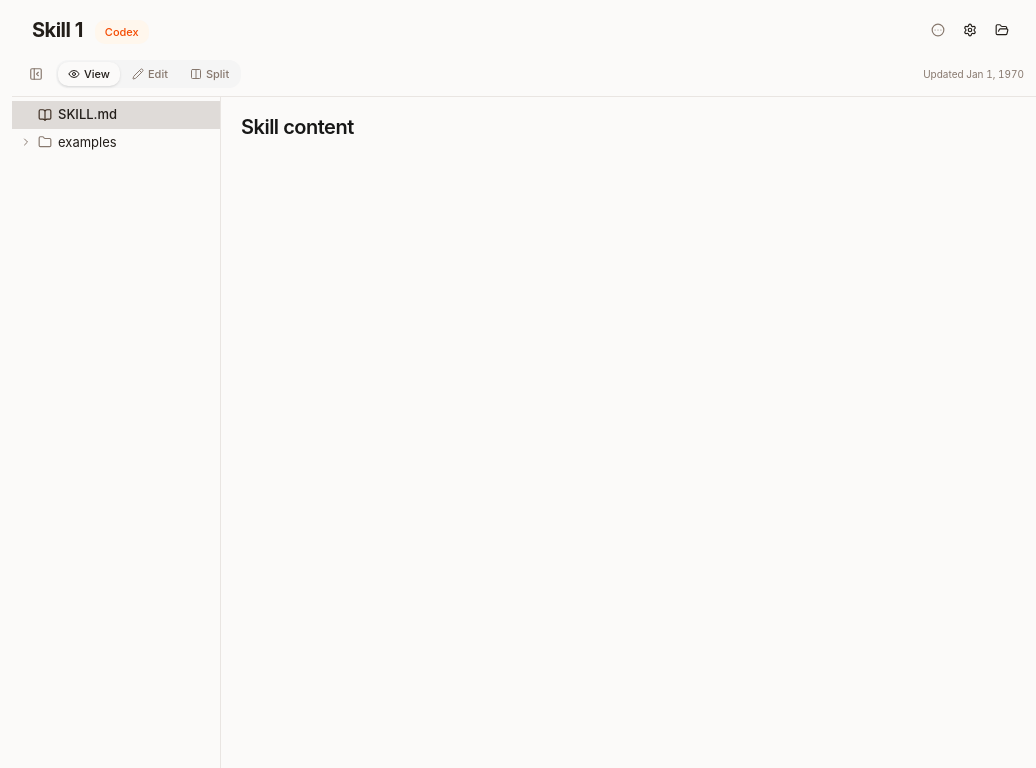
SkillDetail › keeps loaded child directories when the root file tree refetches
The image size is (1036, 768).
Click the button "examples".
click(116, 142)  # box x1=12 y1=128 x2=220 y2=156
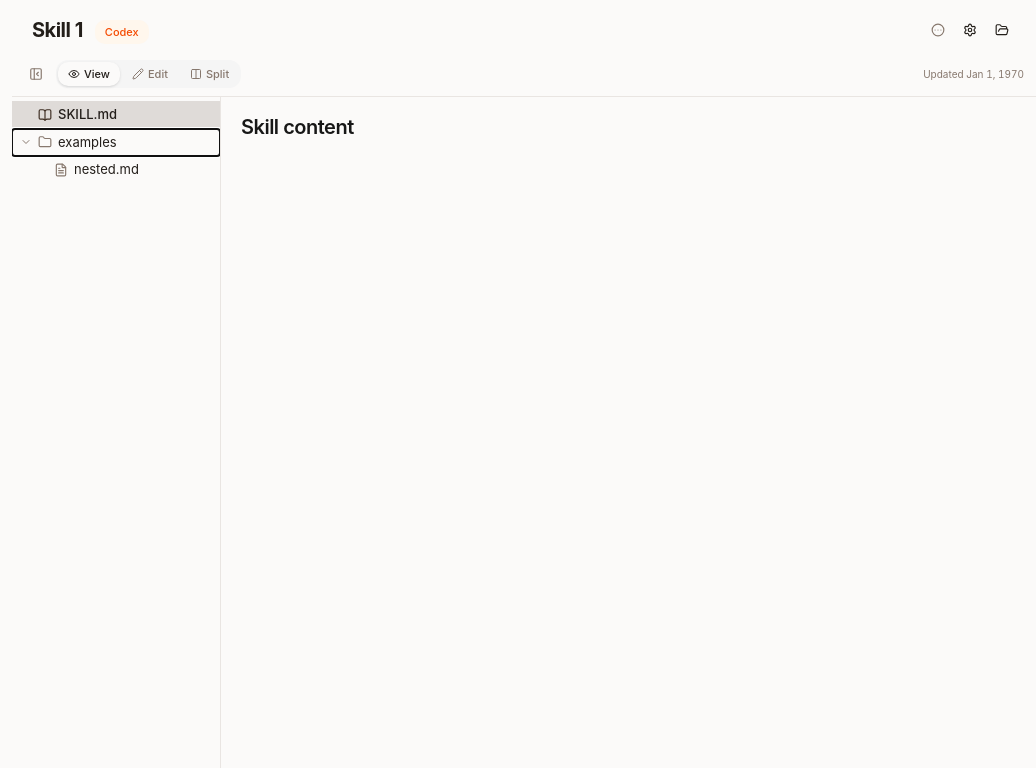
Expected: the text "nested.md" is shown, x1=74 y1=161 x2=139 y2=177
